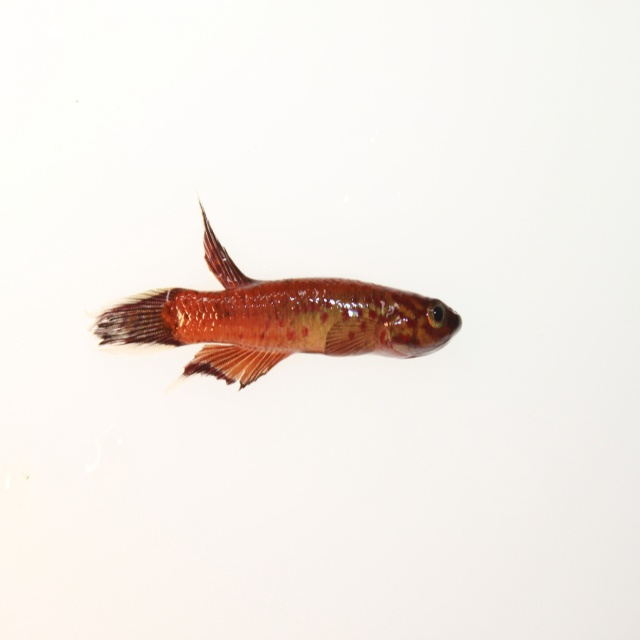Fish: (92, 205, 460, 394)
